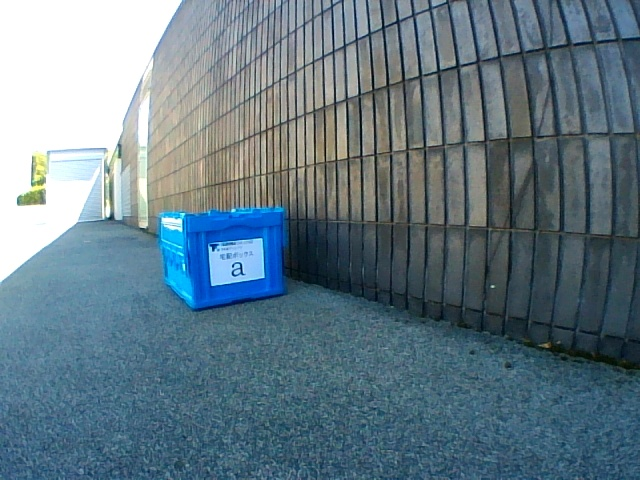blue_box: (159, 207, 287, 310)
tag_a: (216, 247, 258, 277)
